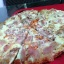pizza: (1, 9, 64, 62)
